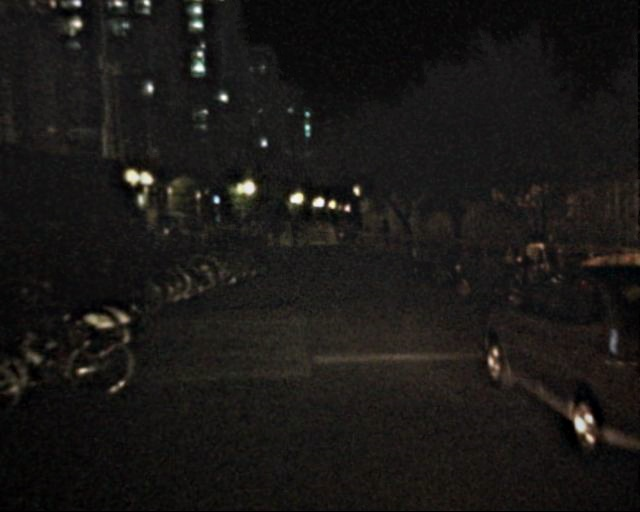person: (239, 218, 269, 244), (169, 215, 186, 256), (144, 219, 160, 257), (377, 216, 391, 251), (285, 215, 299, 250), (268, 216, 282, 250), (186, 219, 200, 252)
